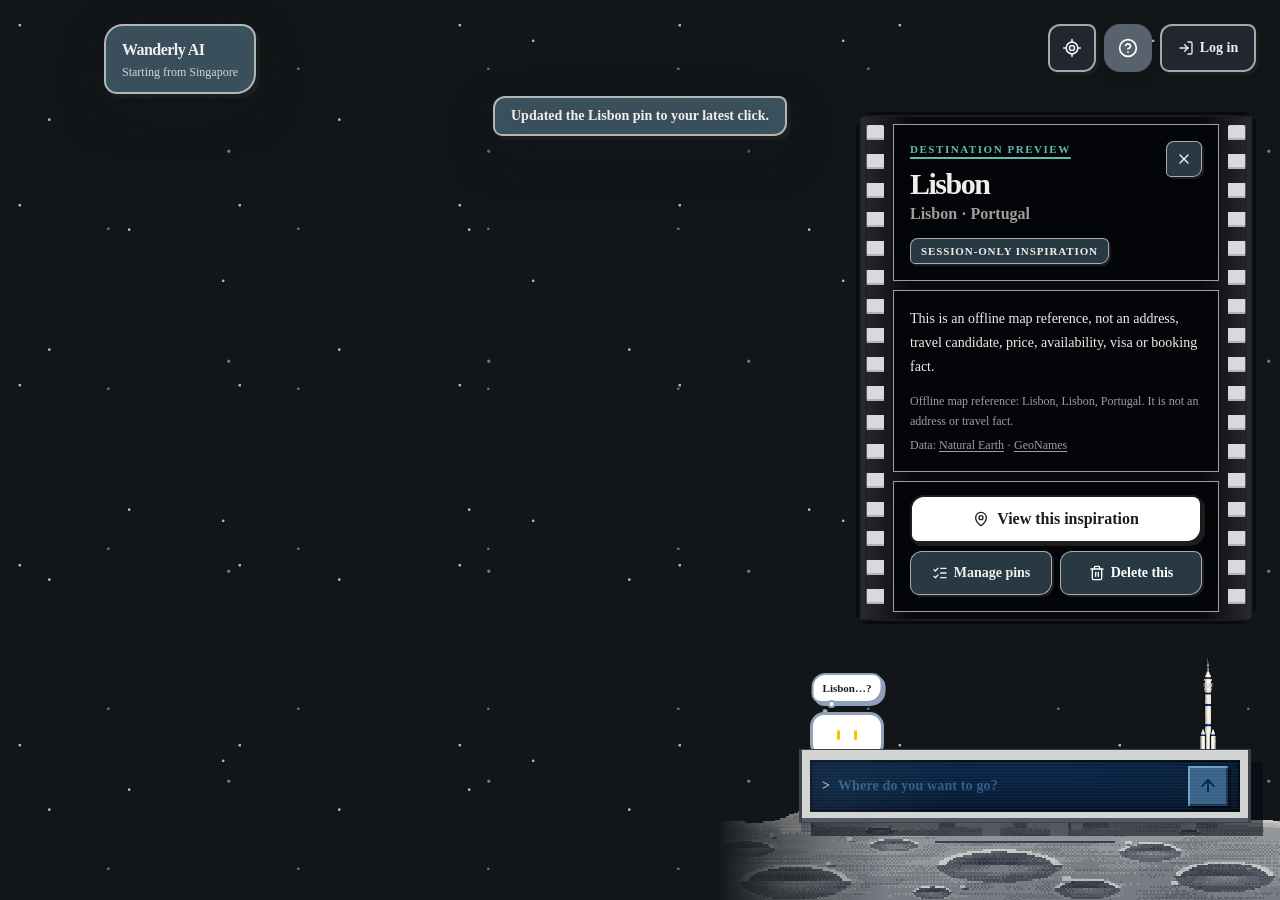
Test: ExploreMapPage private inspirations › keeps the exact manual coordinate and replaces an earlier pin for the same city
Expected: the heading "Lisbon" is shown, 910,166 -> 989,200
Expected: the text "Updated the Lisbon pin to your latest click." is shown, 493,96 -> 787,136
What coordinates should you click on to do the following:
click the button "Manage pins"
I would click on:
 (981, 573)
Its box is 910,551 -> 1052,595.
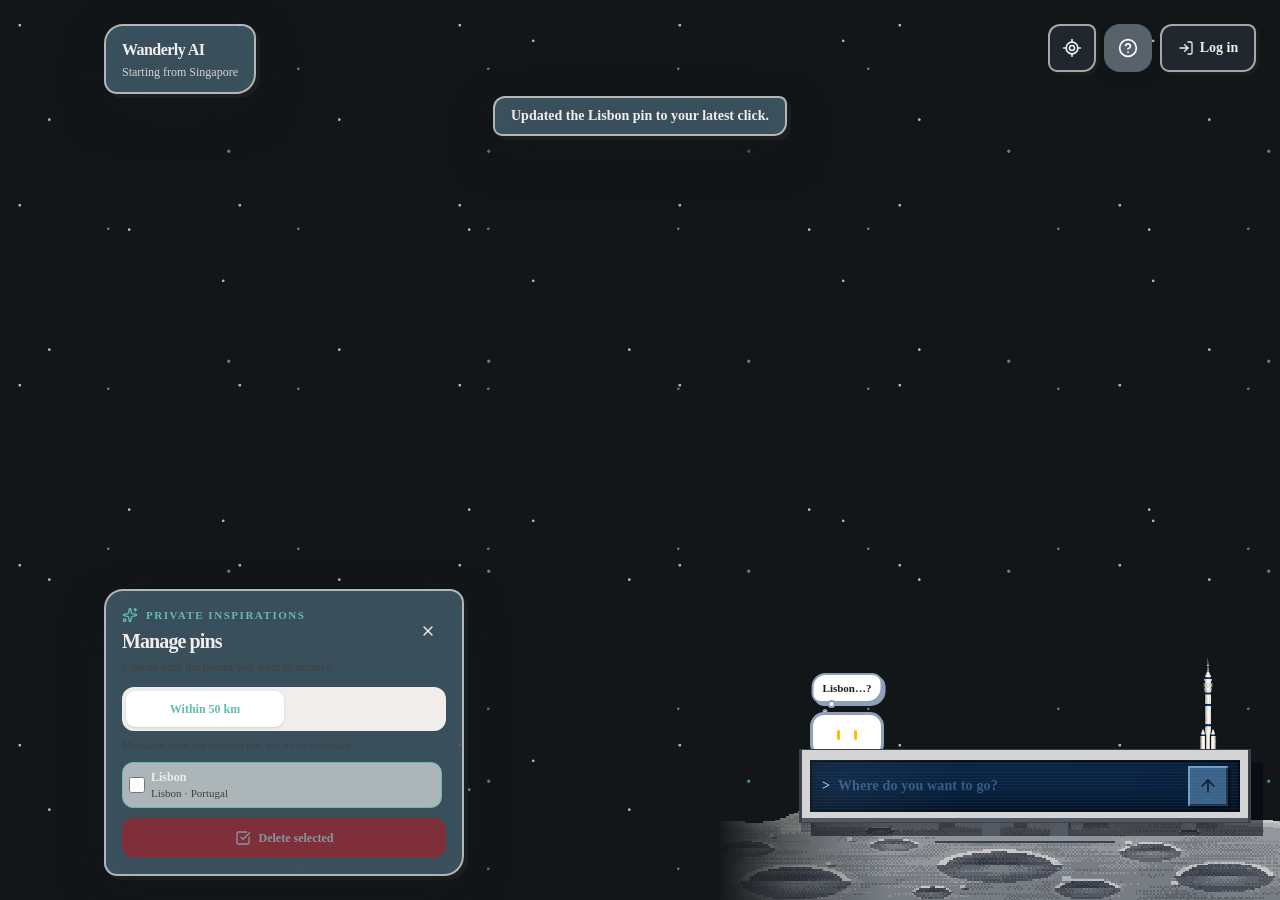
Expected: the button "All pins (1)" is shown, 284,691 -> 442,727
